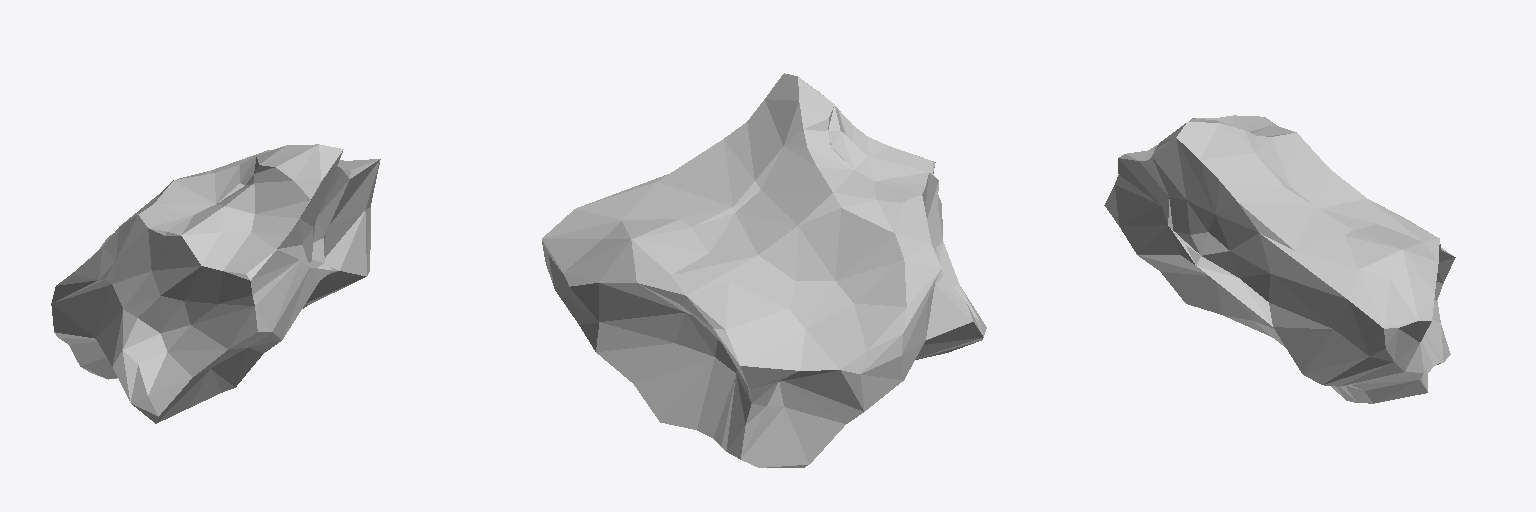
File: Asteroid_02.obj
The picture shows the model from 3 angles: view 1: azimuth 30°, elevation 25°; view 2: azimuth 150°, elevation 25°; view 3: azimuth 270°, elevation 25°; orthographic projection.
Parts seen in each view (by area): view 1: Cube.002; view 2: Cube.002; view 3: Cube.002.
Part boxes in pixels (left/top/right/bottom): Cube.002: left=51, top=144, right=380, bottom=423; Cube.002: left=542, top=73, right=986, bottom=467; Cube.002: left=1104, top=115, right=1455, bottom=403.
Size of the model in its own units: 2 by 1.55 by 1.74.